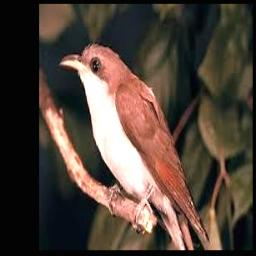Cuckoo: (59, 43, 210, 243)
